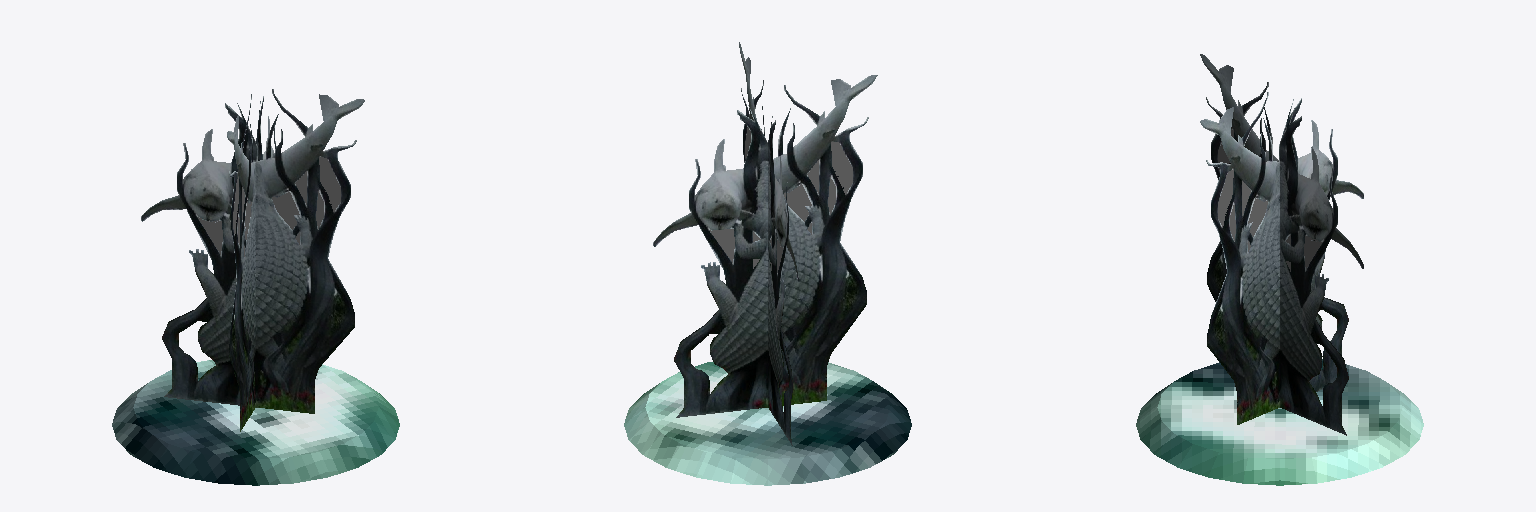
3 views of the same model, side by side, from view 1: azimuth 30°, elevation 25°; view 2: azimuth 150°, elevation 25°; view 3: azimuth 270°, elevation 25° (orthographic).
Parts seen in each view (by area): view 1: Mesh3 Model, Mesh1 Group1 Model, Mesh2 Model; view 2: Mesh2 Model, Mesh1 Group1 Model, Mesh3 Model; view 3: Mesh1 Group1 Model, Mesh3 Model, Mesh2 Model.
Part boxes in pixels (x1,y1,x2,y2): Mesh3 Model: (141,89,364,413); Mesh1 Group1 Model: (112,360,399,485); Mesh2 Model: (227,94,276,431); Mesh2 Model: (653,75,877,417); Mesh1 Group1 Model: (624,362,911,485); Mesh3 Model: (739,42,798,445); Mesh1 Group1 Model: (1136,359,1423,485); Mesh3 Model: (1200,92,1363,424); Mesh2 Model: (1200,54,1363,435).
Bounding box in the file's own units: 8.16 × 10.54 × 8.16.
Materials: 3 (2 with a texture image).